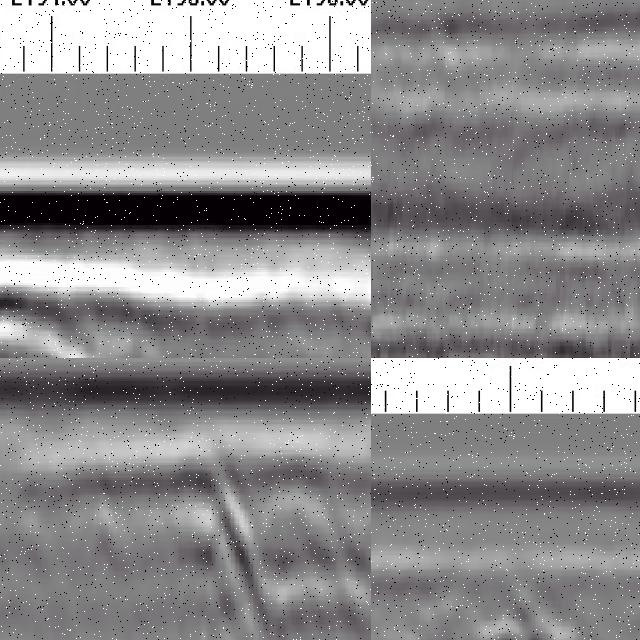crack: (197, 457, 246, 640)
loose: (257, 468, 372, 640), (1, 271, 168, 359)
